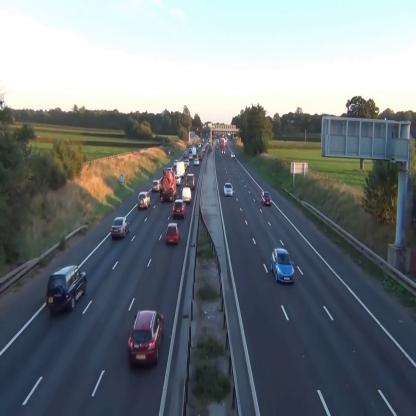car: (128, 309, 164, 366), (47, 265, 87, 311), (271, 248, 294, 283), (111, 218, 130, 238), (166, 223, 180, 245), (173, 199, 186, 218), (138, 192, 151, 210), (261, 192, 271, 208), (182, 187, 191, 204), (223, 182, 233, 196), (187, 174, 196, 188), (152, 180, 161, 192), (174, 174, 182, 185)
lorry: (160, 172, 176, 202), (177, 162, 185, 177)
